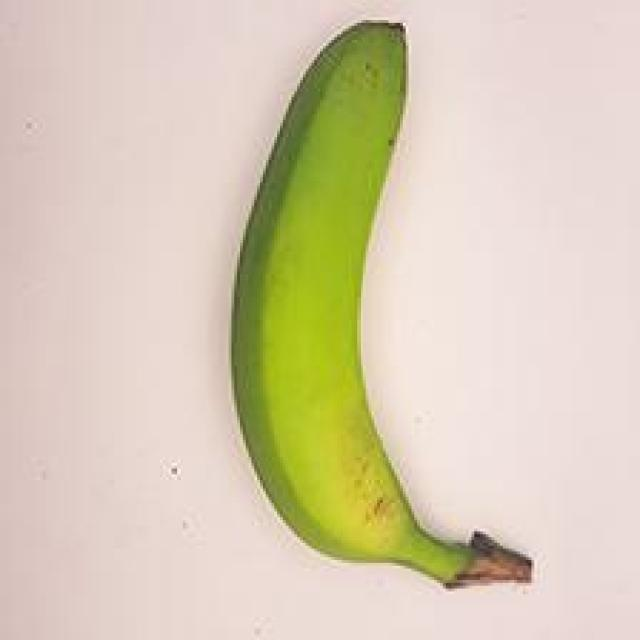unripe: (182, 21, 586, 597)
